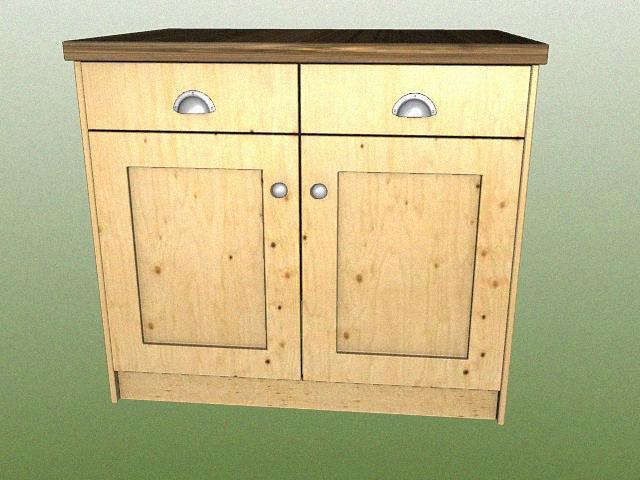cabinet_door: (302, 138, 513, 385), (101, 133, 302, 374), (300, 65, 528, 138), (84, 64, 300, 132)
handle: (171, 89, 217, 120), (393, 92, 438, 122), (310, 179, 330, 205), (270, 180, 288, 205)
